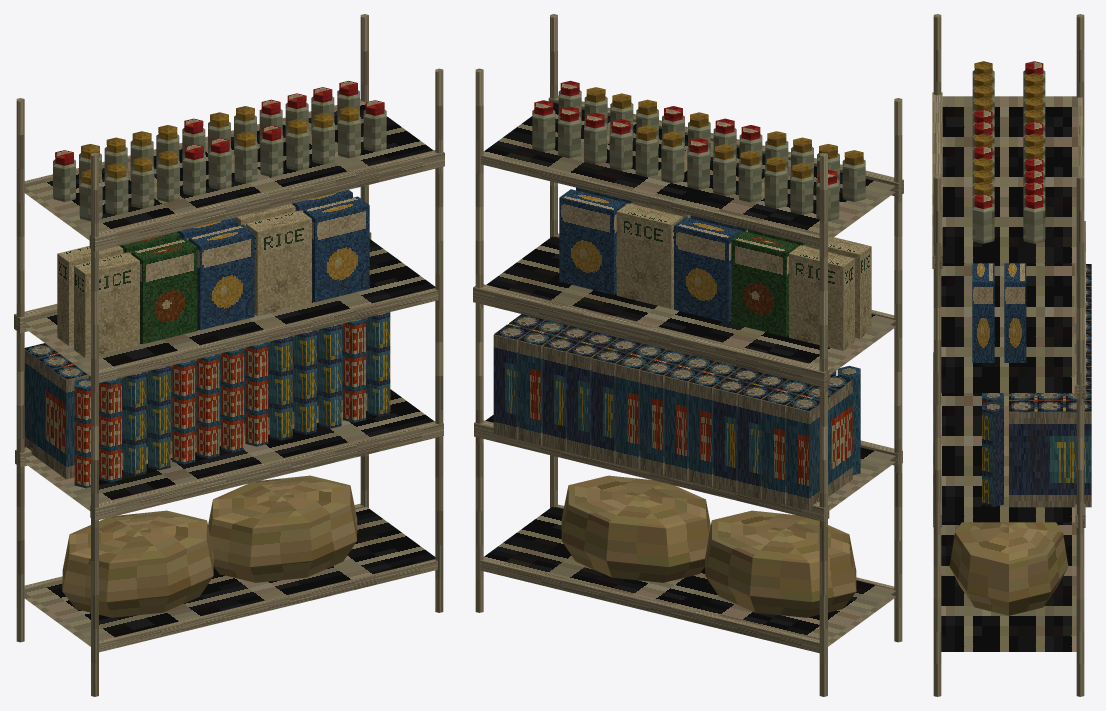
Rendered from WireRack_Horror.fbx.
3 views of the same model, side by side, from view 1: azimuth 30°, elevation 25°; view 2: azimuth 150°, elevation 25°; view 3: azimuth 270°, elevation 25° (orthographic). The views are drawn at different scales.
Parts seen in each view (by area): view 1: WireRack.001; view 2: WireRack.001; view 3: WireRack.001.
Part boxes in pixels (x1,y1,x2,y2): WireRack.001: [14, 14, 444, 696]; WireRack.001: [473, 14, 903, 696]; WireRack.001: [932, 14, 1091, 696].
Size of the model in its own units: 123 by 180 by 50.1.
